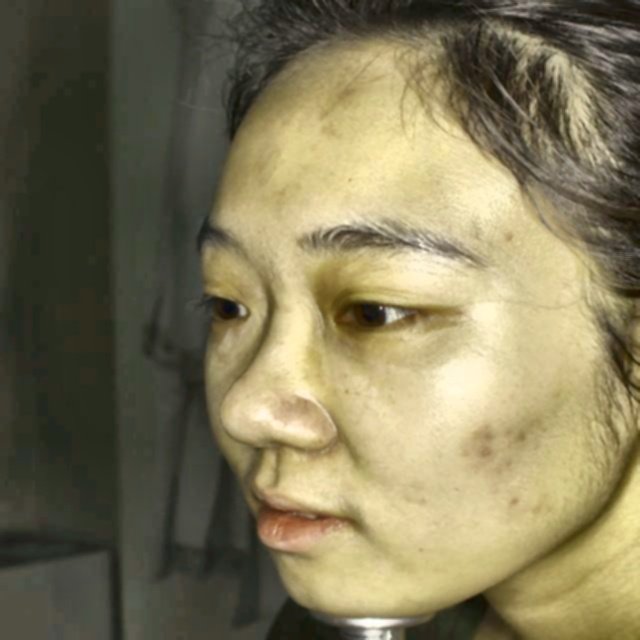comedone: (477, 425, 499, 459)
